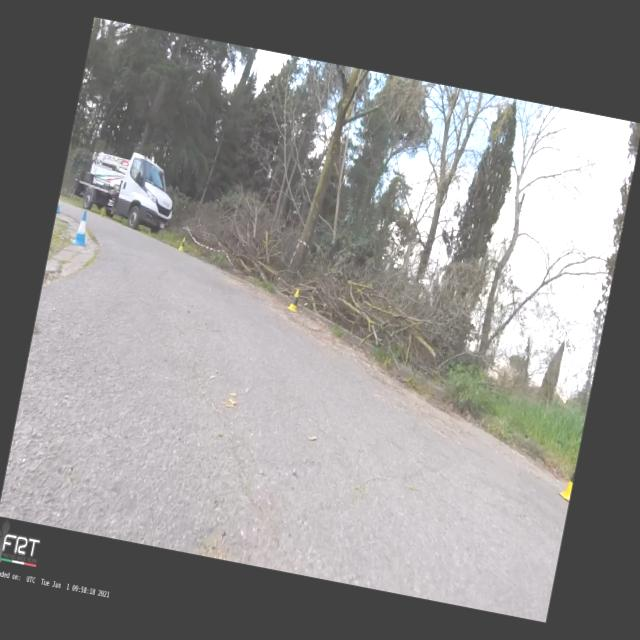blue_cone: (72, 210, 92, 247), (56, 198, 64, 214)
yellow_cone: (557, 468, 575, 502), (286, 288, 302, 312), (178, 237, 186, 252)
